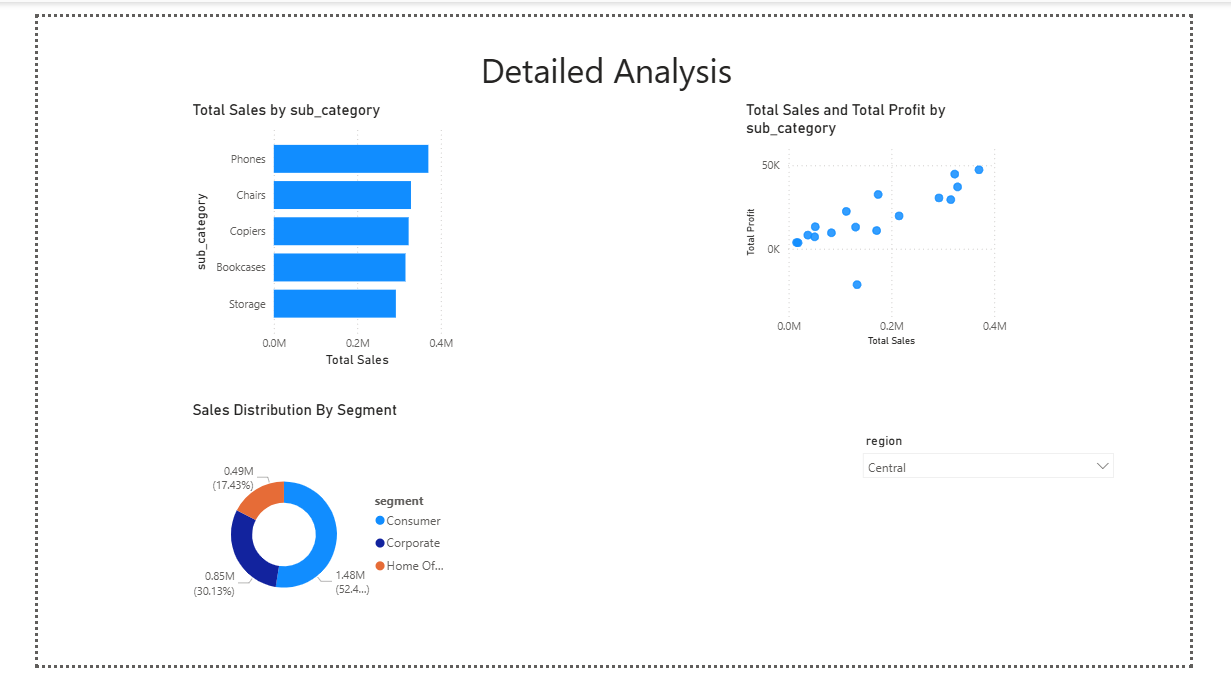

What the dashboard file says about the page in this screenshot:
{"tool":"powerbi","page":{"name":"Page 2","canvas":[1280,720],"ordinal":1},"visuals":[{"type":"textbox","box":[251,27.5,908.4,66.4],"z":0},{"type":"barChart","fields":{"Category":["SuperStoreOrders.sub_category"],"Y":["SuperStoreOrders.Total Sales"]},"box":[166.8,93.9,299.6,299.6],"z":1},{"type":"scatterChart","fields":{"X":["SuperStoreOrders.Total Sales"],"Y":["SuperStoreOrders.Total Profit"],"Category":["SuperStoreOrders.sub_category"]},"box":[782.1,93.9,299.6,276.9],"z":2},{"type":"donutChart","title":"Sales Distribution By Segment","fields":{"Category":["SuperStoreOrders.segment"],"Y":["SuperStoreOrders.Total Sales"]},"box":[166.8,425.9,299.6,276.9],"z":3},{"type":"slicer","fields":{"Values":["SuperStoreOrders.region"]},"box":[907.1,457.3,298.6,156.9],"z":4}]}

Visuals, with their boxes in screenshot pixels (x1, y1, x2, y2), scaled from the page's 1280x720 canvas onto the 1231x679 screenshot:
textbox: pyautogui.locateOnScreen(241, 26, 1115, 89)
barChart - SuperStoreOrders.sub_category x SuperStoreOrders.Total Sales: pyautogui.locateOnScreen(160, 89, 449, 371)
scatterChart - SuperStoreOrders.Total Sales x SuperStoreOrders.Total Profit: pyautogui.locateOnScreen(752, 89, 1040, 350)
"Sales Distribution By Segment" donutChart: pyautogui.locateOnScreen(160, 402, 449, 663)
slicer - SuperStoreOrders.region: pyautogui.locateOnScreen(872, 431, 1160, 579)
